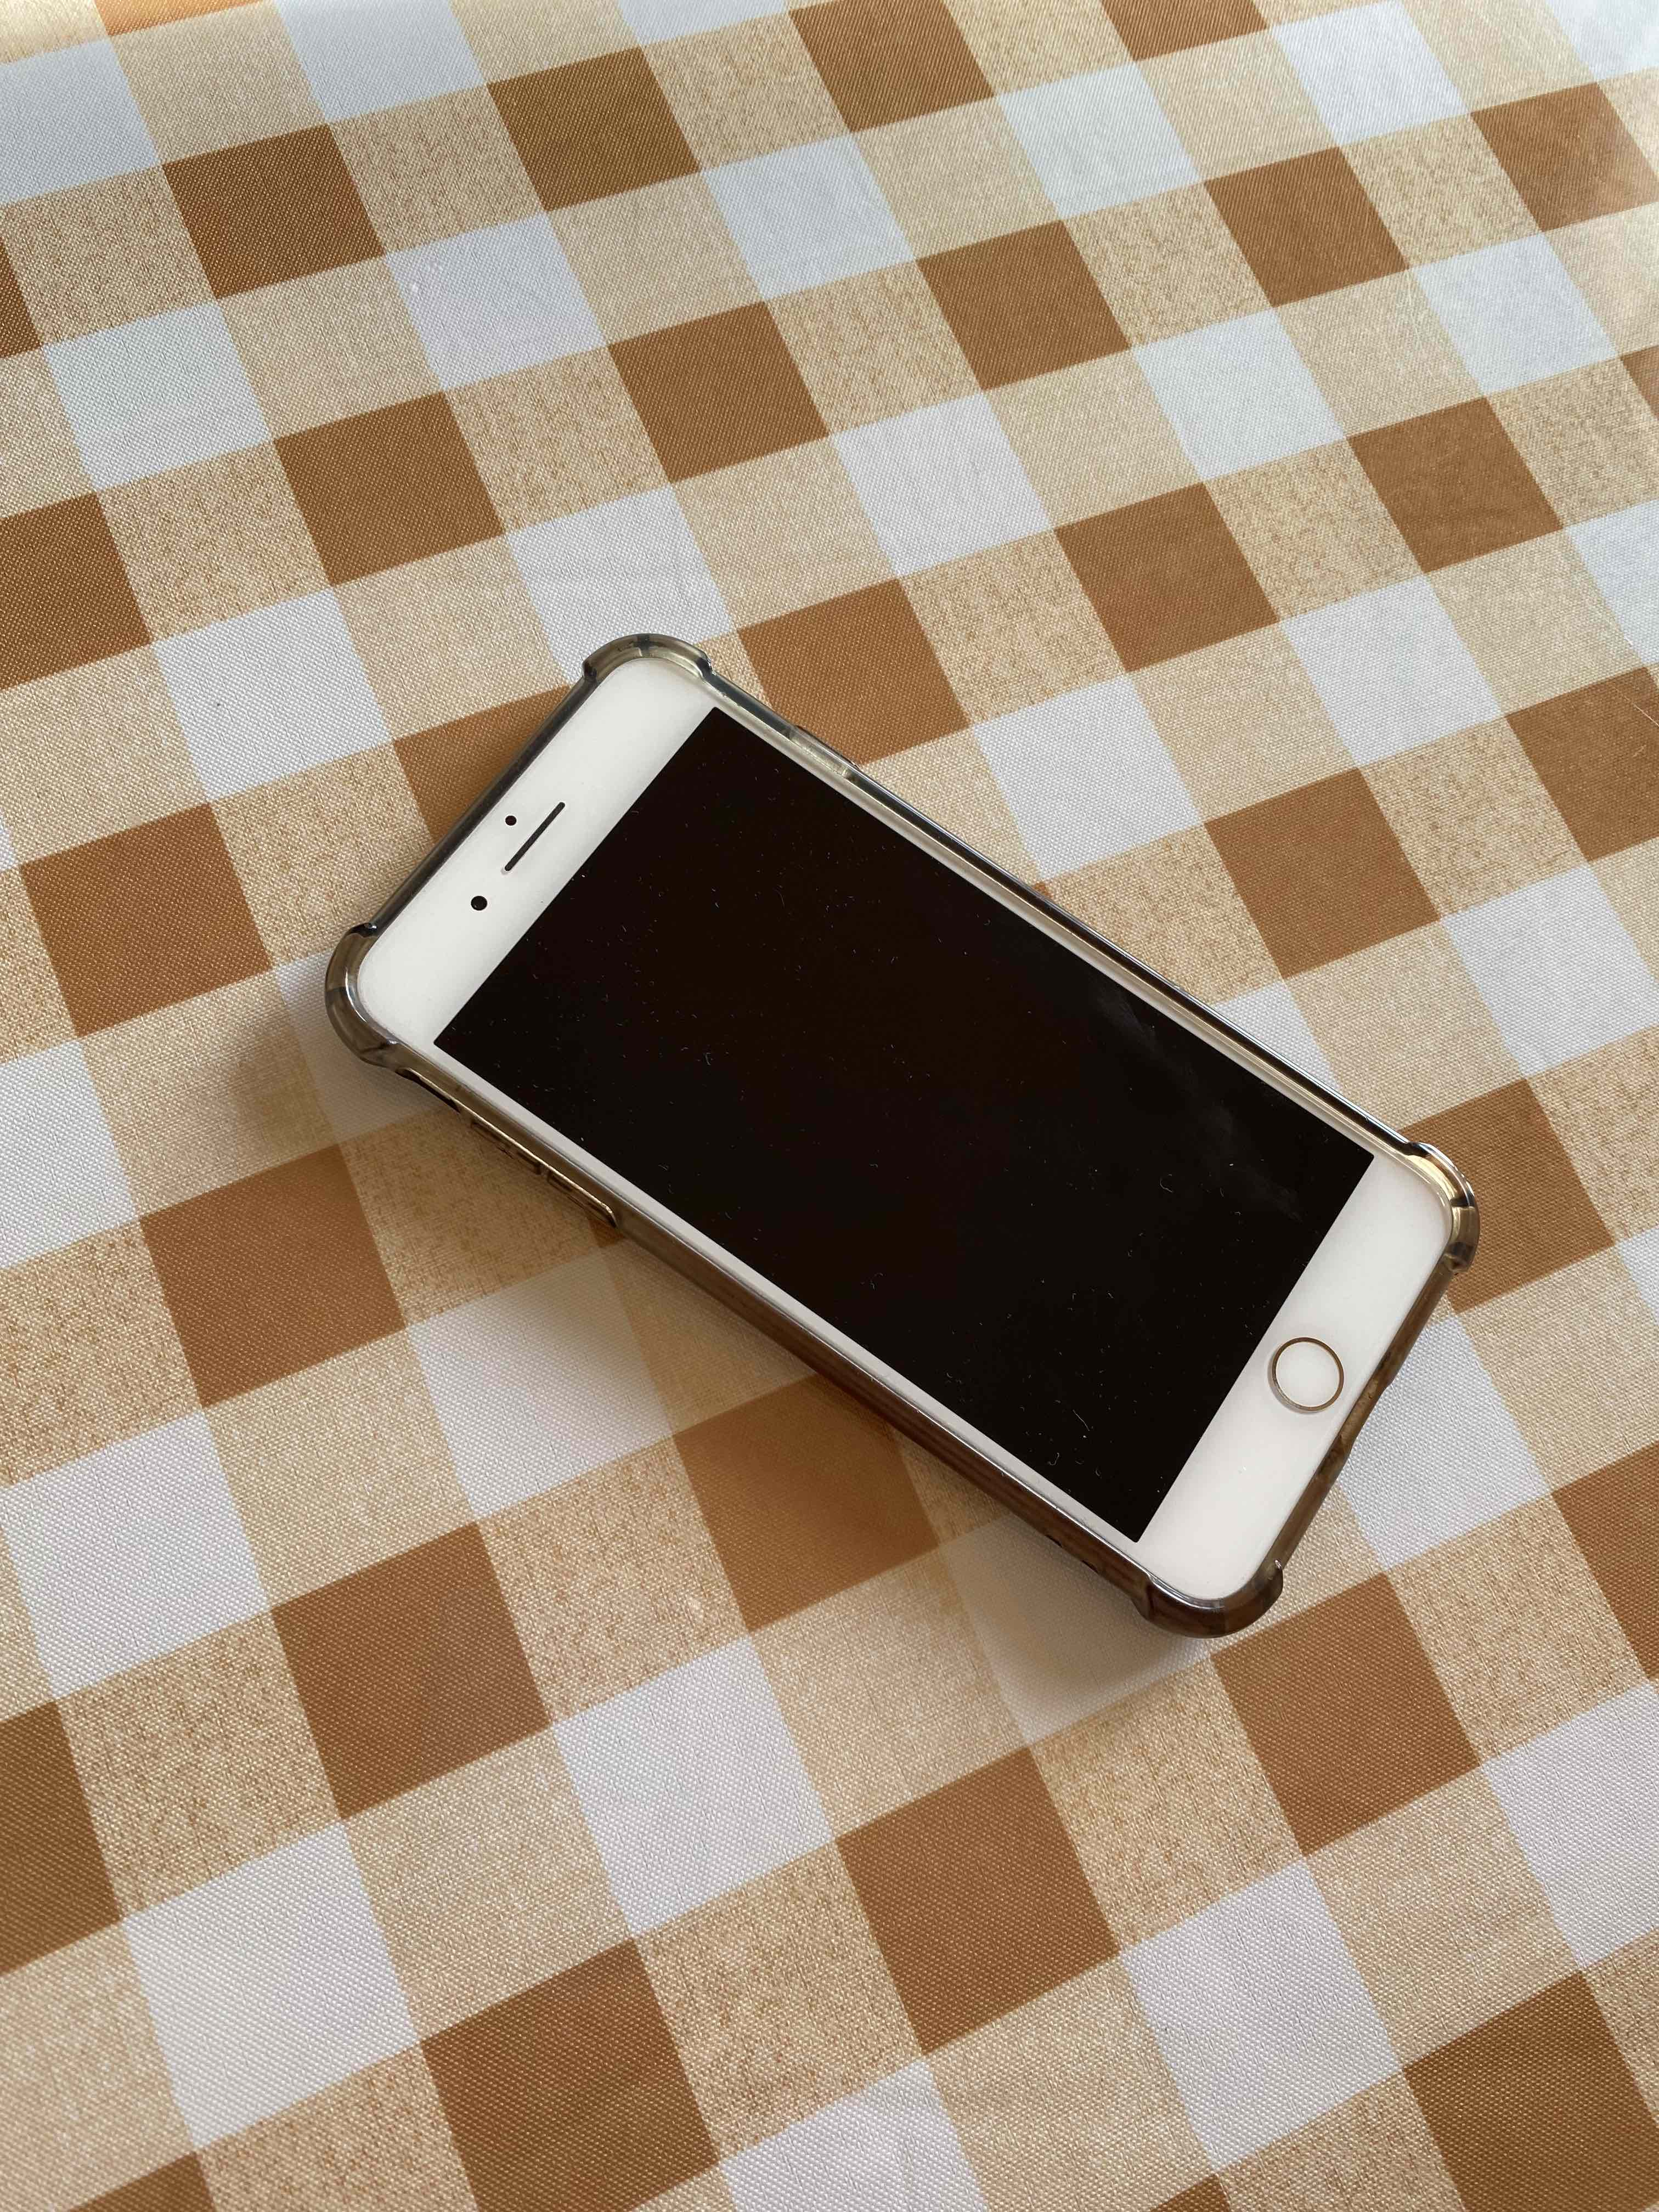Cell Phone: (338, 629, 1490, 1637)
